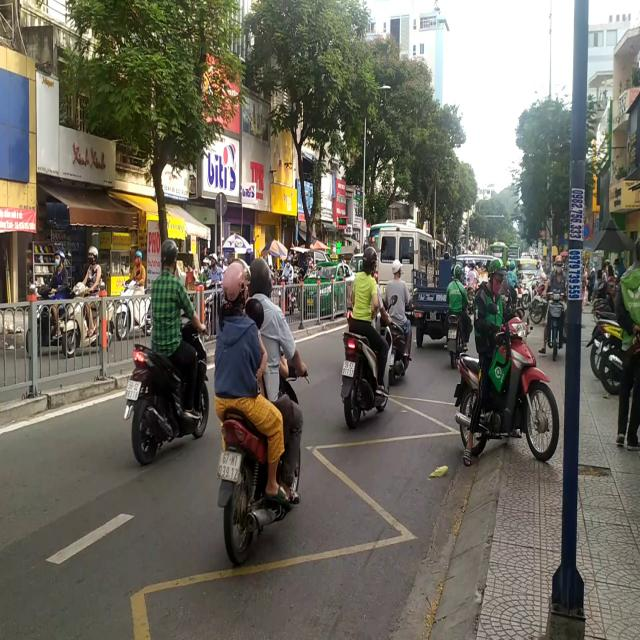bien_trang: (216, 450, 241, 484), (123, 377, 141, 403), (342, 358, 354, 377)
